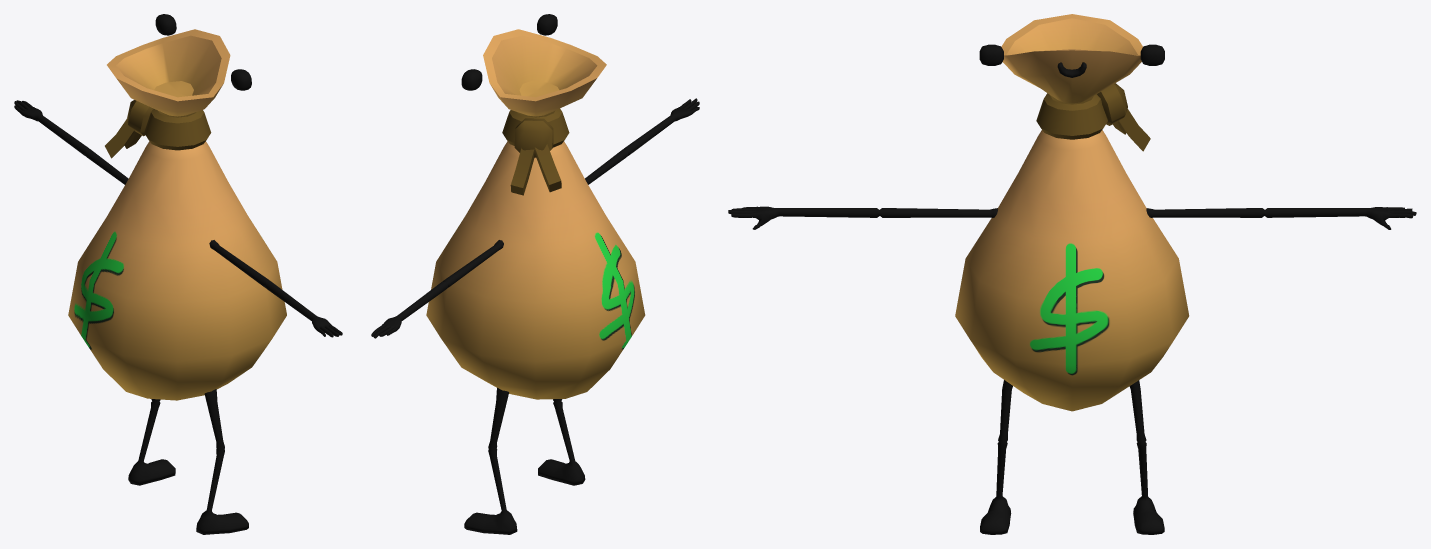
File: Money Bag Character.glb
3 views of the same model, side by side, from view 1: azimuth 30°, elevation 25°; view 2: azimuth 150°, elevation 25°; view 3: azimuth 270°, elevation 25° (orthographic). The views are drawn at different scales.
Visible parts, largest first — view 1: _100Avatars_199_CoolMoneyBag; view 2: _100Avatars_199_CoolMoneyBag; view 3: _100Avatars_199_CoolMoneyBag.
Part boxes in pixels (x1,y1,x2,y2): _100Avatars_199_CoolMoneyBag: (14,14,342,534); _100Avatars_199_CoolMoneyBag: (371,14,699,534); _100Avatars_199_CoolMoneyBag: (728,14,1416,534).
Size of the model in its own units: 1.39 by 3.21 by 4.09.
Materials: 1 (1 with a texture image).
